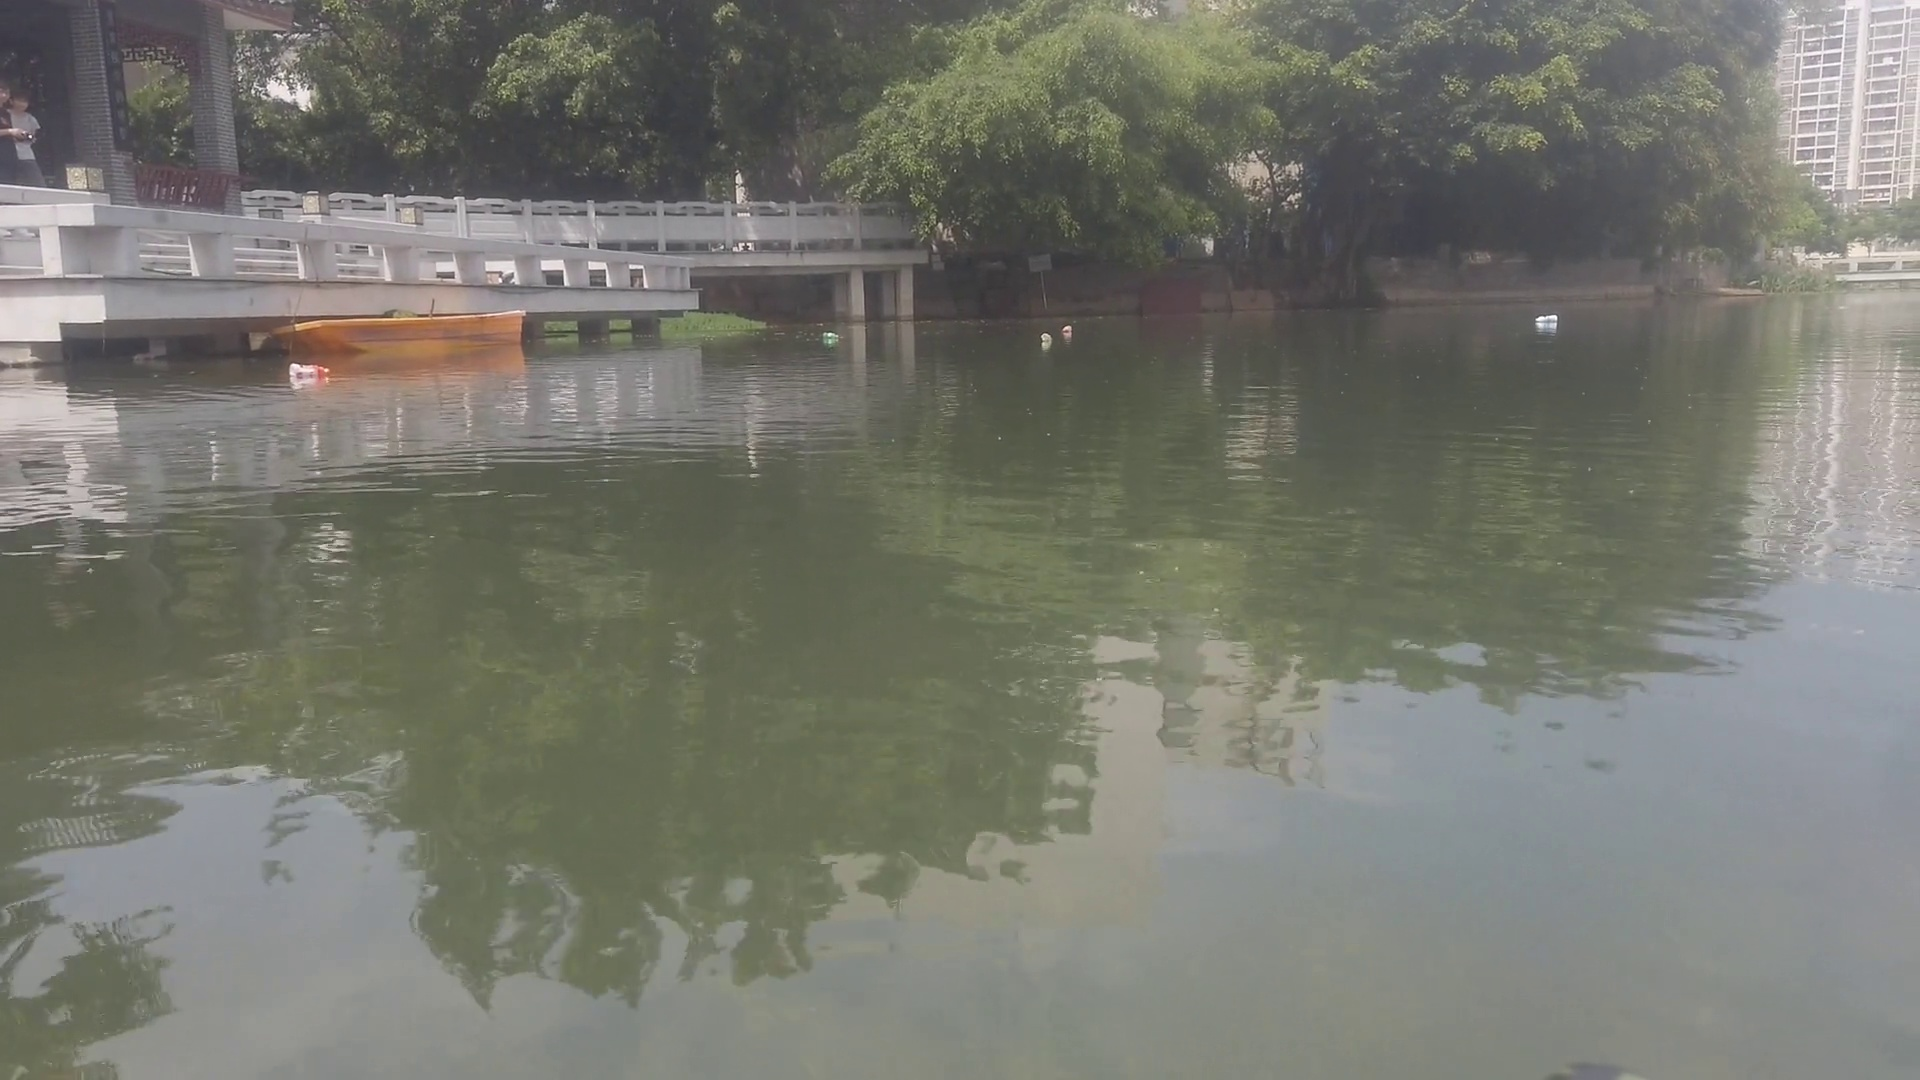bottle: (284, 357, 332, 380), (819, 328, 847, 343), (1534, 311, 1559, 323), (1056, 320, 1077, 334), (1036, 328, 1055, 343)
